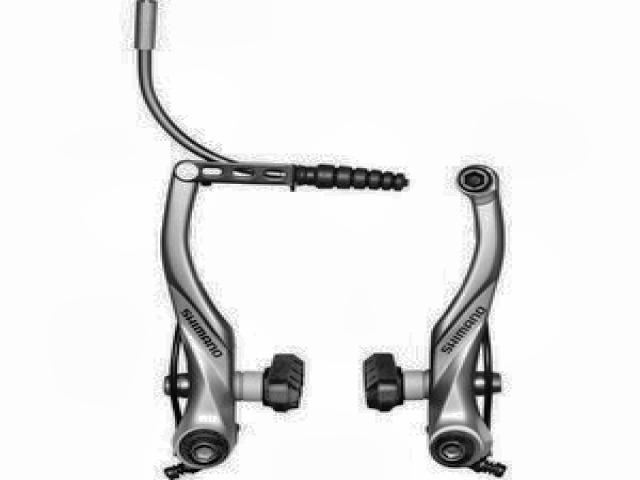rim_brake: (155, 152, 508, 480)
